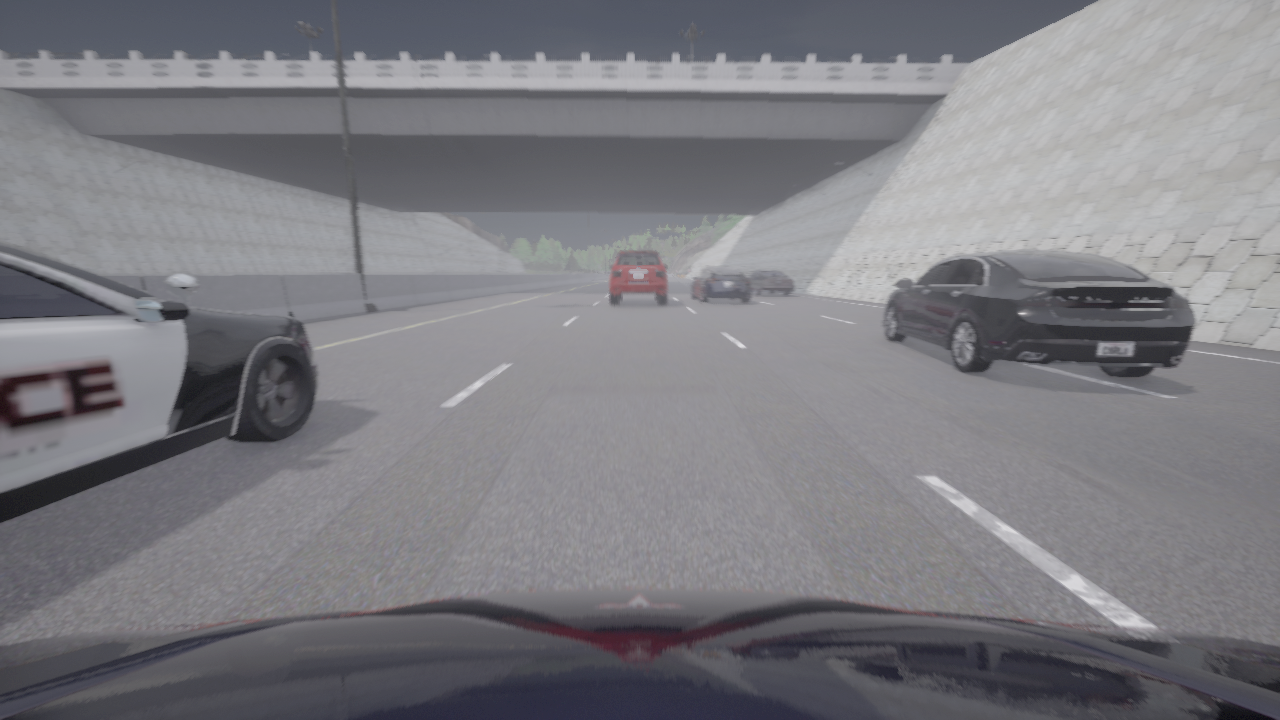cyclist: (0, 588, 1279, 719), (883, 249, 1195, 377), (610, 250, 667, 304), (692, 267, 750, 302), (747, 270, 794, 295)
